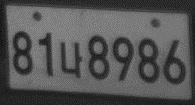1: (38, 31, 55, 77)
6: (161, 38, 186, 84)
8: (137, 37, 160, 83), (87, 34, 110, 79), (11, 29, 33, 75)
9: (112, 36, 134, 82)
나: (59, 41, 84, 79)
